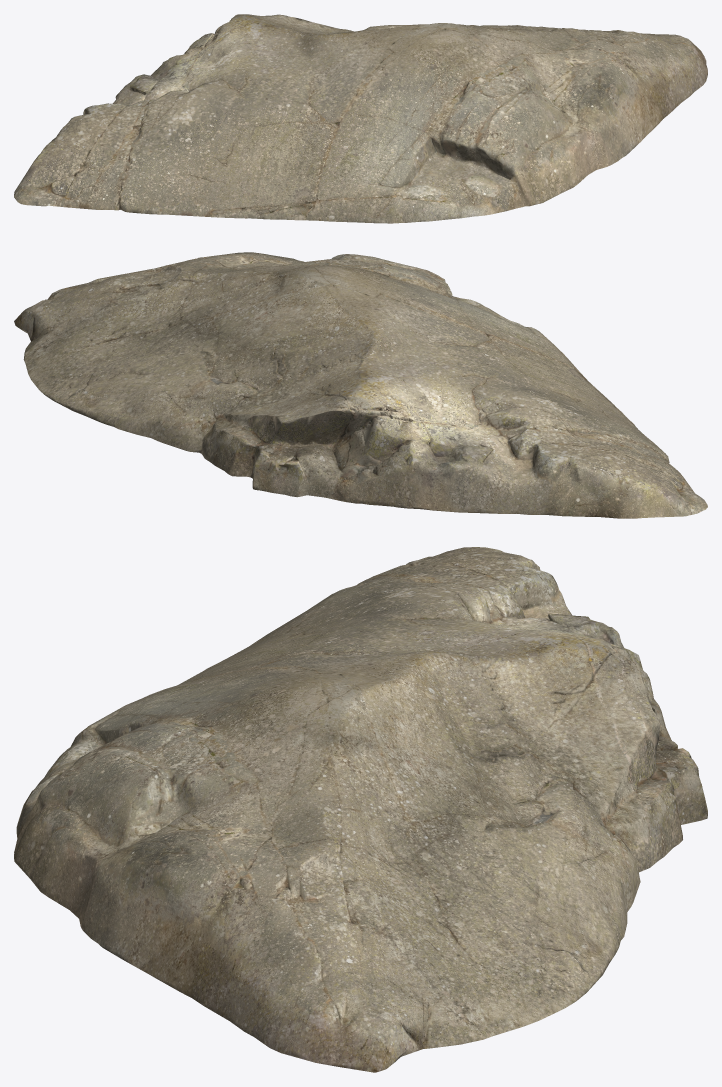
Rendered from SM_zcolfhi_tier_2.gltf.
3 renders of one model, top to bottom at view 1: azimuth 30°, elevation 25°; view 2: azimuth 150°, elevation 25°; view 3: azimuth 270°, elevation 25°, orthographic. The views are drawn at different scales.
Visible parts, largest first — view 1: zcolfhi_LOD2_TIER2_000; view 2: zcolfhi_LOD2_TIER2_000; view 3: zcolfhi_LOD2_TIER2_000.
Part boxes in pixels (x1,y1,x2,y2): zcolfhi_LOD2_TIER2_000: [14, 14, 707, 223]; zcolfhi_LOD2_TIER2_000: [14, 252, 707, 518]; zcolfhi_LOD2_TIER2_000: [14, 547, 707, 1072].
Size of the model in its own units: 24.73 by 3.62 by 14.08.
Materials: 1 (1 with a texture image).
